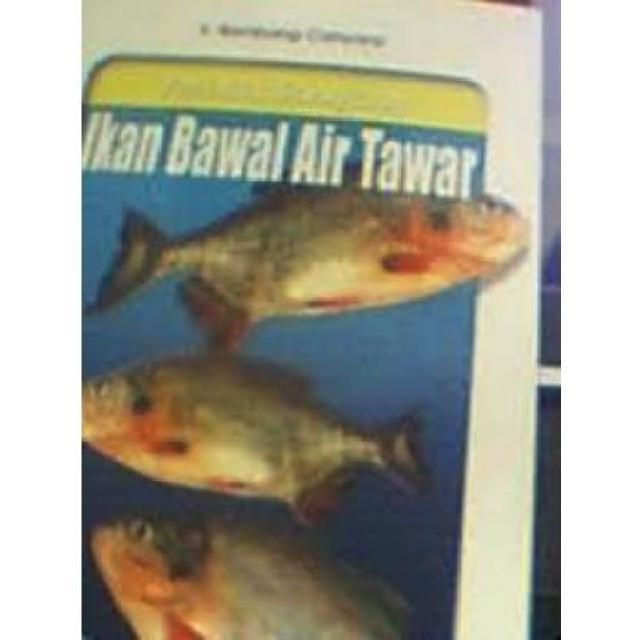ikan-pacu: (102, 164, 520, 318), (80, 356, 416, 496), (91, 506, 428, 636)
